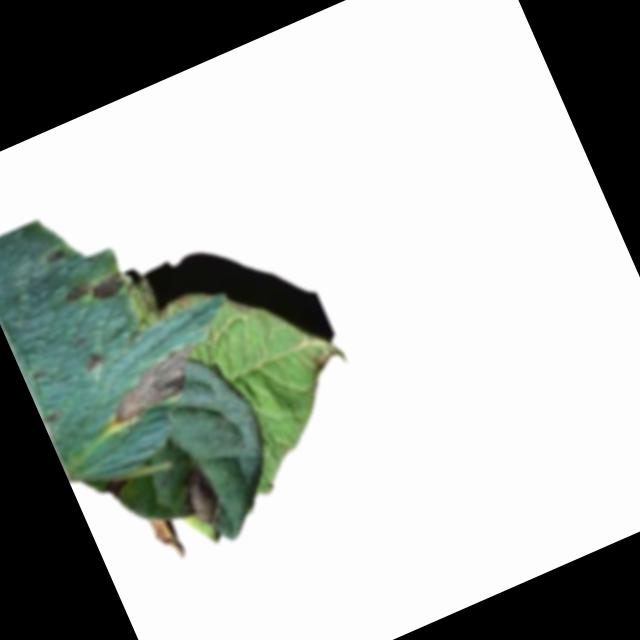Early_blight: (94, 340, 210, 427), (61, 265, 128, 313), (177, 463, 227, 527), (150, 513, 187, 565), (82, 348, 109, 374)
